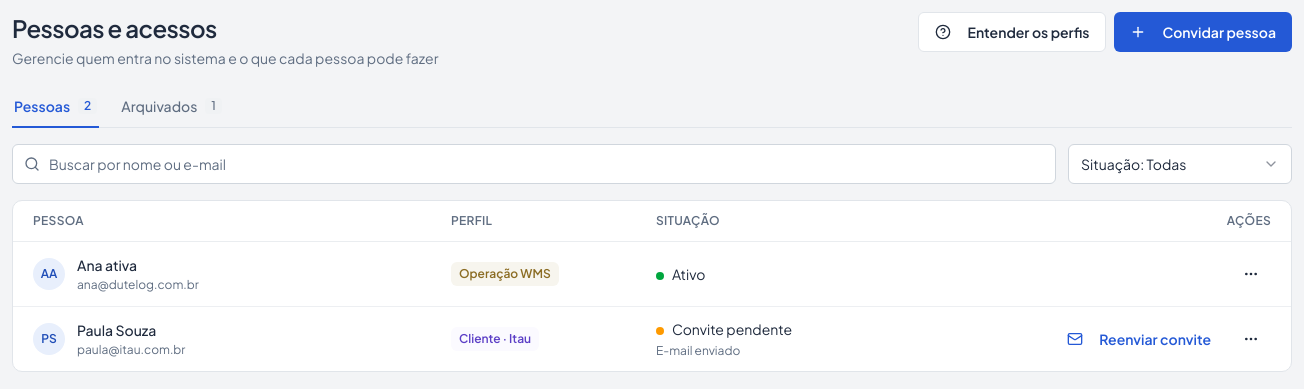
it: a tabela ampla de pessoas › separa acessos removidos e oculta quem já foi removido da lista
Expected: the text "Bia removida" is not shown
Press the mouse on the tab "Arquivados 1" at {"x": 172, "y": 110}, box 119,92 -> 224,128
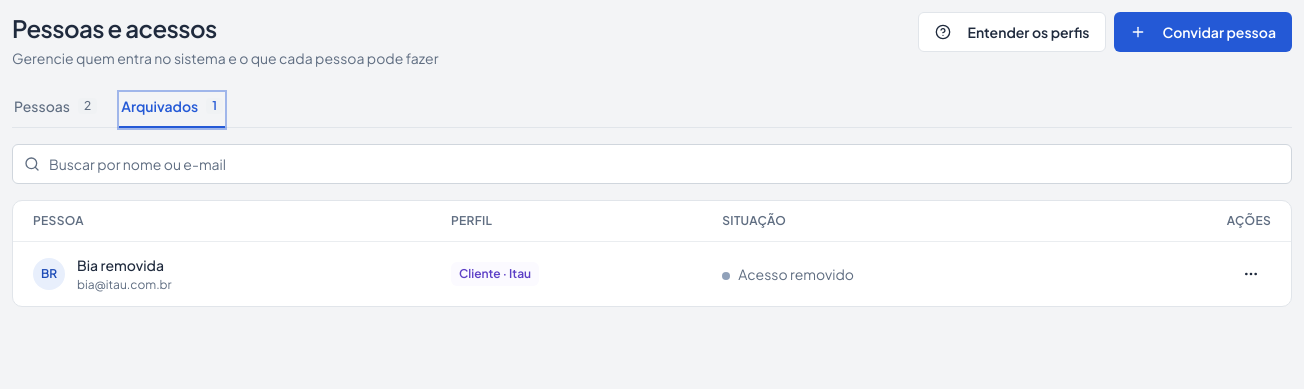
Result: the text "Bia removida" is shown at 77,255 -> 172,275
Result: the text "Ana ativa" is gone
